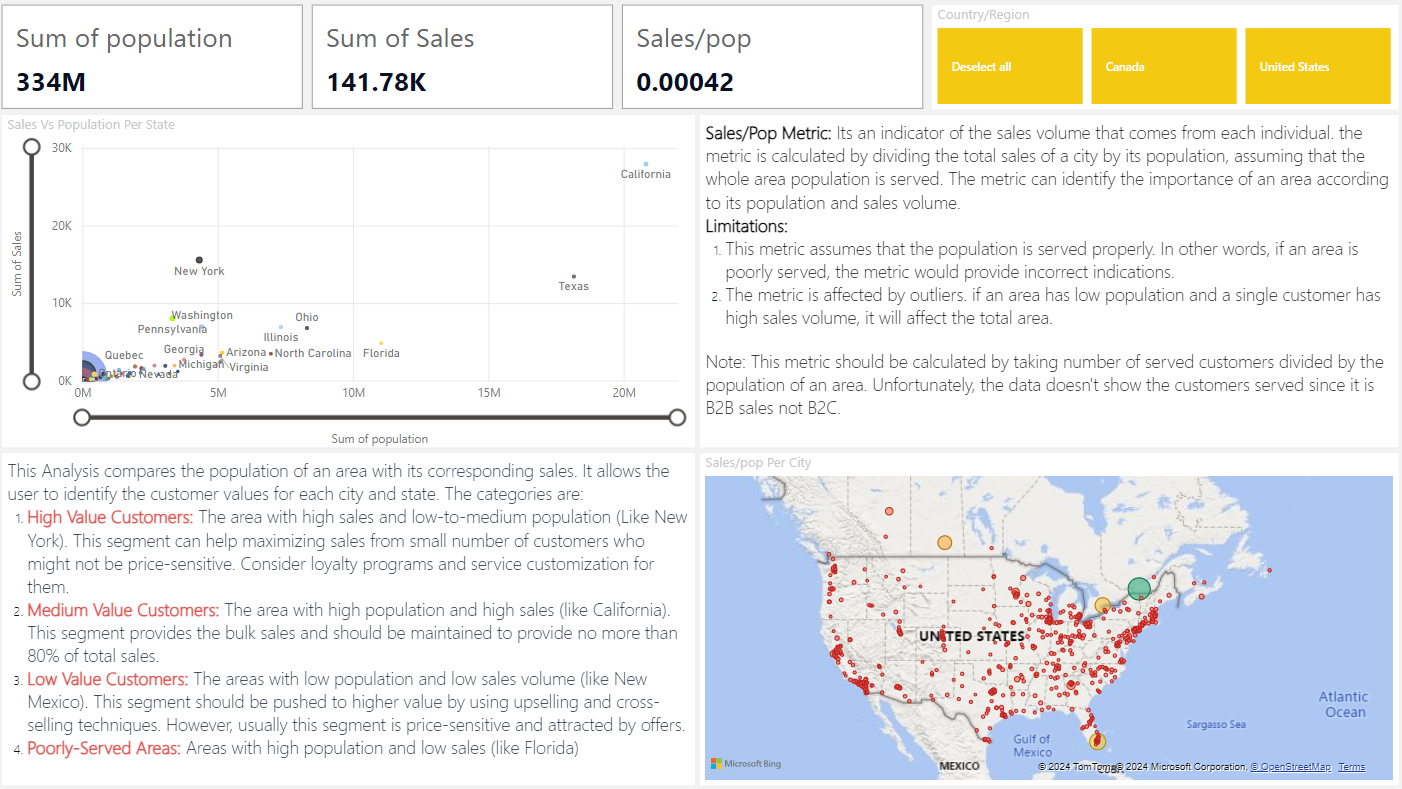

The dashboard page shown, as its layout file describes it:
{"tool":"powerbi","page":{"name":"Potential Sales","canvas":[1280,720],"ordinal":2},"visuals":[{"type":"scatterChart","title":"Sales Vs Population Per State","fields":{"X":["Sum(uszips.population)"],"Y":["Sum(Candy_Sales.Sales)"],"Series":["Candy_Sales.State/Province"],"Size":["uszips.Sales/pop"]},"box":[5,105.5,630,302],"z":0},{"type":"map","title":"Sales/pop Per City","fields":{"Category":["Candy_Sales.Country/Region","Candy_Sales.State/Province","Candy_Sales.City"],"Size":["uszips.Sales"]},"box":[640,412.7,635,302],"z":1000},{"type":"cardVisual","fields":{"Data":["Sum(uszips.population)","Sum(Candy_Sales.Sales)","uszips.Sales/pop"]},"box":[0,0,850.9,105.5],"z":2000},{"type":"advancedSlicerVisual","fields":{"Values":["Candy_Sales.Country/Region"]},"box":[850.9,5,424,95],"z":3000},{"type":"textbox","box":[5,412.7,630,302],"z":4000},{"type":"textbox","box":[640,105.5,635,302],"z":5000}]}

Visuals, with their boxes in screenshot pixels (x1, y1, x2, y2), scaled from the page's 1280x720 canvas onto the 1402x789 screenshot:
"Sales Vs Population Per State" scatterChart: pyautogui.locateOnScreen(5, 116, 696, 447)
"Sales/pop Per City" map: pyautogui.locateOnScreen(701, 452, 1397, 783)
cardVisual - Sum(uszips.population) x Sum(Candy_Sales.Sales): pyautogui.locateOnScreen(0, 0, 932, 116)
advancedSlicerVisual - Candy_Sales.Country/Region: pyautogui.locateOnScreen(932, 5, 1396, 110)
textbox: pyautogui.locateOnScreen(5, 452, 696, 783)
textbox: pyautogui.locateOnScreen(701, 116, 1397, 447)
